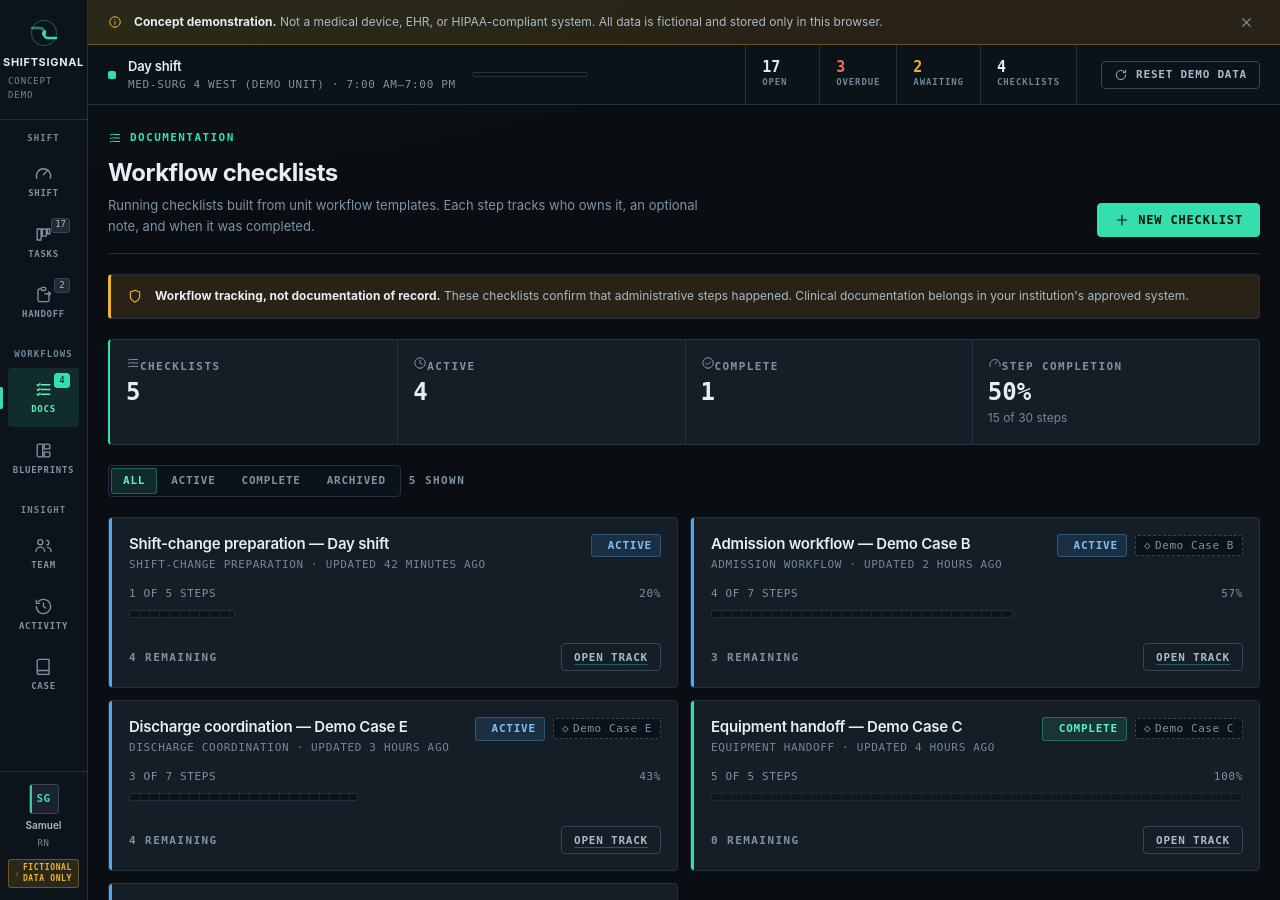
Test case: Checklist workflows › filters the list by status
Click the button "Complete".
click(271, 481)  # box [230, 468, 313, 494]
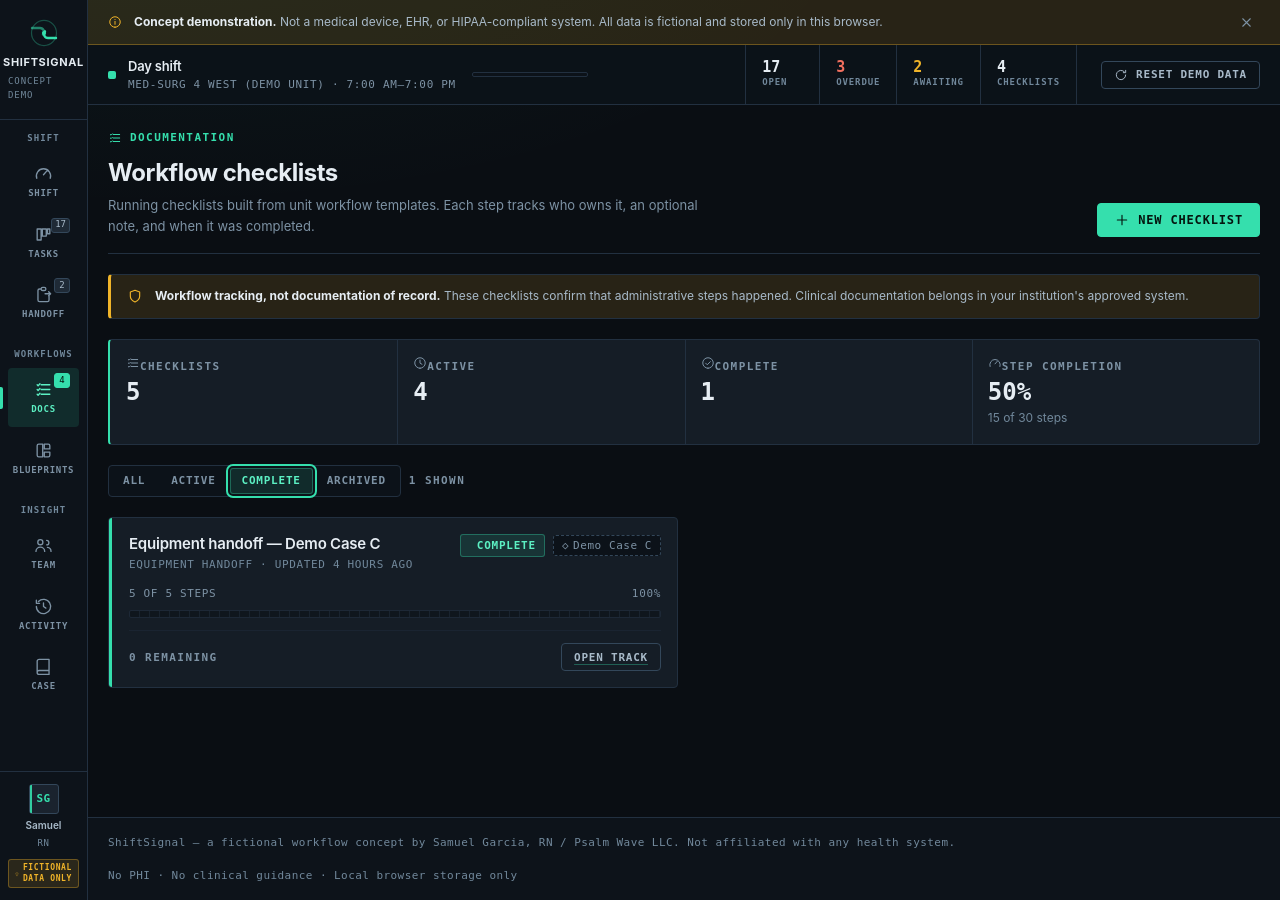
Expected: the link "Equipment handoff — Demo Case C" is shown, [129, 534, 380, 553]
Expected: the link "Admission workflow — Demo Case B" is gone
